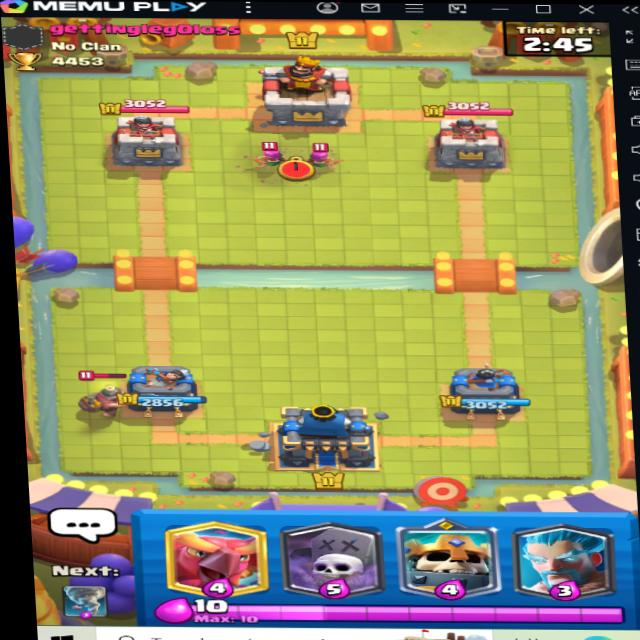archer: (246, 134, 289, 180), (306, 139, 342, 174)
miner: (54, 364, 138, 427)
